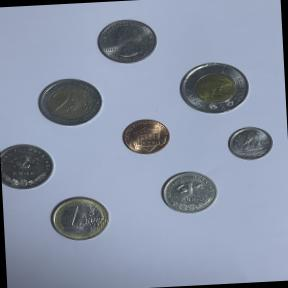coin: (172, 58, 254, 120), (32, 74, 108, 132), (46, 192, 114, 244), (94, 16, 161, 66), (0, 139, 57, 194), (116, 116, 176, 159), (224, 123, 276, 165)
